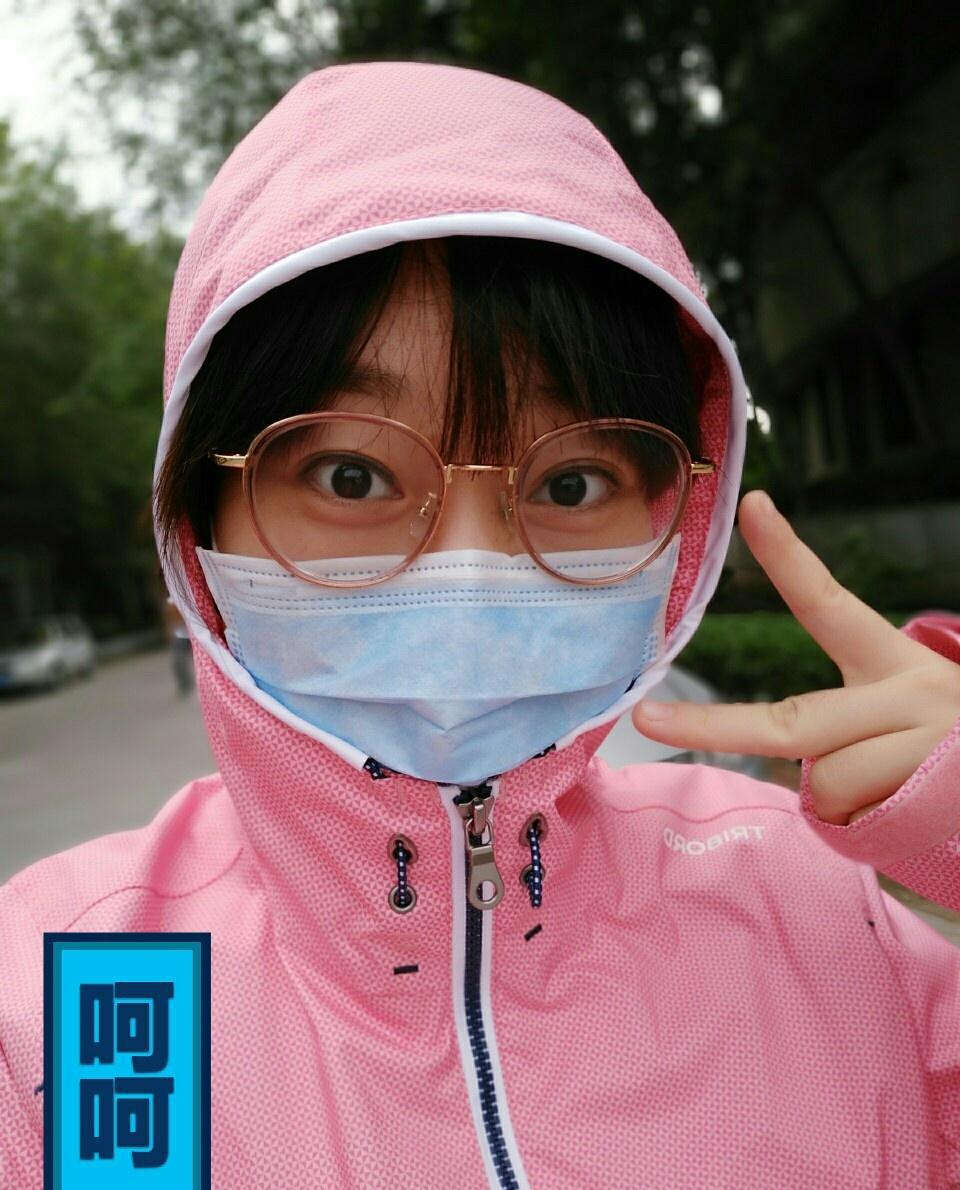OK: (184, 314, 694, 824)
